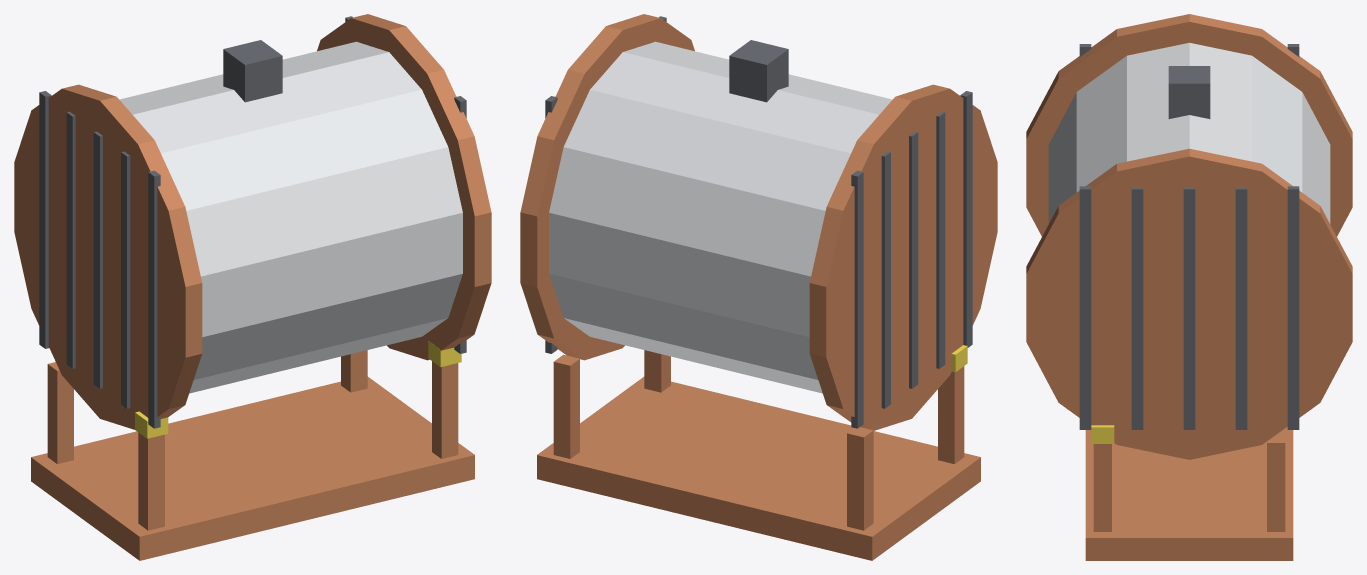
File: bow-0.glb
3 renders of one model, left to right at view 1: azimuth 30°, elevation 25°; view 2: azimuth 150°, elevation 25°; view 3: azimuth 270°, elevation 25°, orthographic. The views are drawn at different scales.
Parts seen in each view (by area): view 1: shipyard-and-dry-dock-bow-thruster-tunnel-unit; view 2: shipyard-and-dry-dock-bow-thruster-tunnel-unit; view 3: shipyard-and-dry-dock-bow-thruster-tunnel-unit.
Boxes of the visible parts, bbox=[...] form: shipyard-and-dry-dock-bow-thruster-tunnel-unit: bbox=[14, 14, 491, 560]; shipyard-and-dry-dock-bow-thruster-tunnel-unit: bbox=[520, 14, 997, 560]; shipyard-and-dry-dock-bow-thruster-tunnel-unit: bbox=[1026, 14, 1352, 560].
Bounding box in the file's own units: 3.2 × 3.9 × 2.83.
